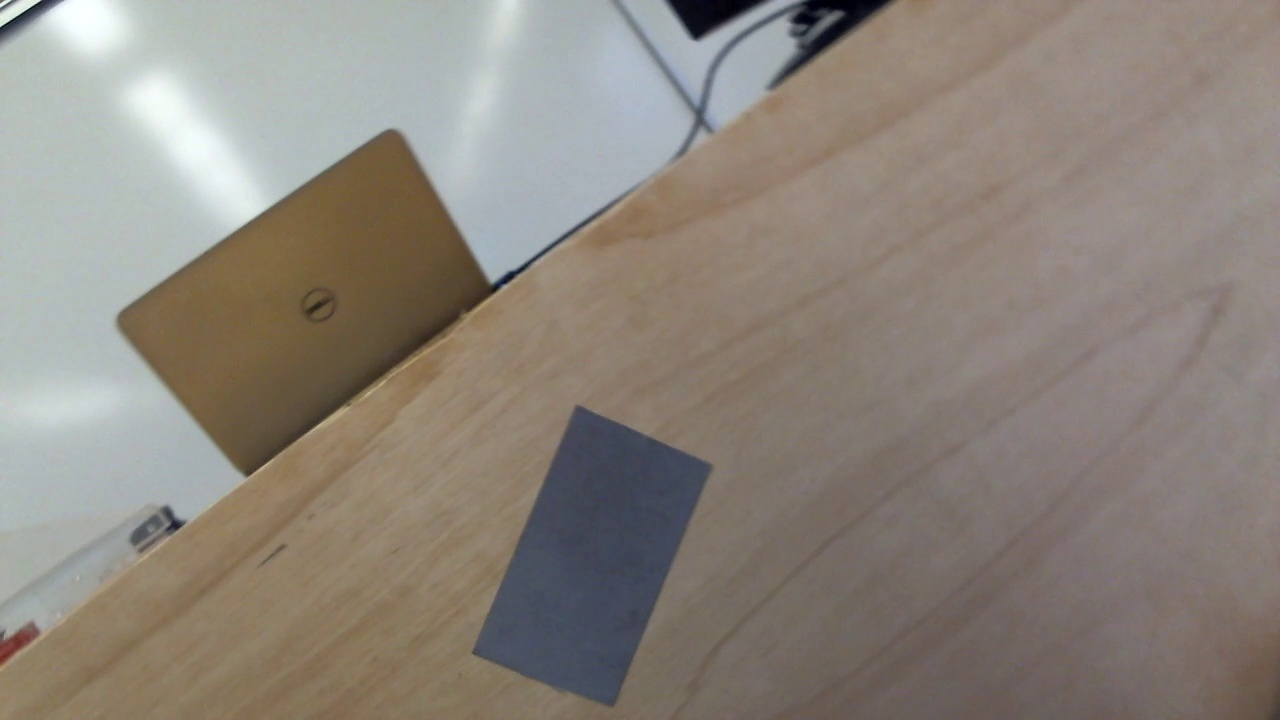Tape: (472, 402, 715, 706)
